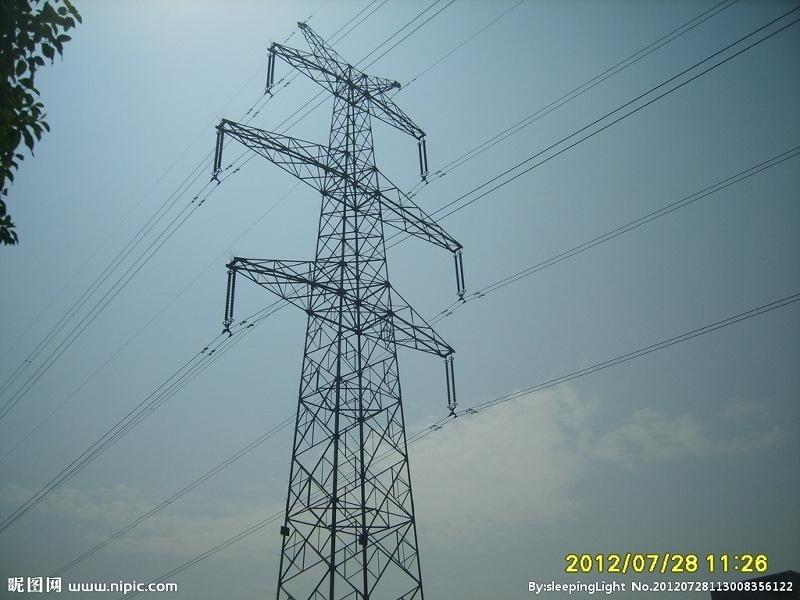power_tower: (206, 20, 483, 594)
